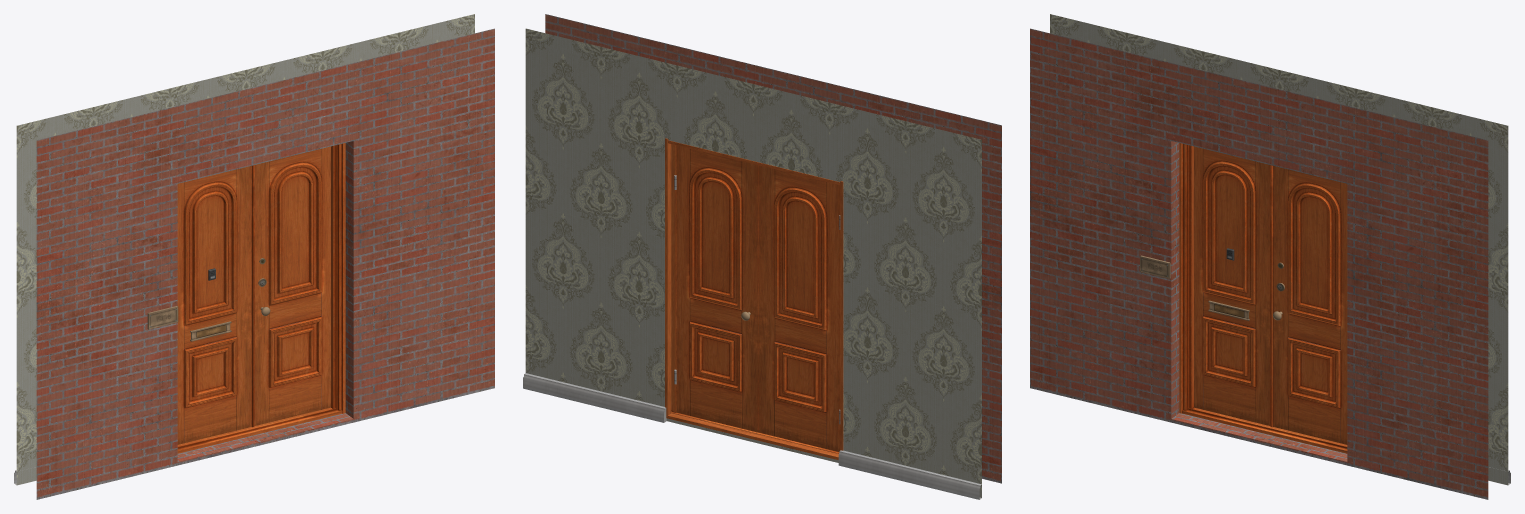
Rendered from House_03_Wall_Door.fbx.
The picture shows the model from 3 angles, left to right: view 1: azimuth 30°, elevation 25°; view 2: azimuth 150°, elevation 25°; view 3: azimuth 330°, elevation 25°; orthographic projection.
Parts seen in each view (by area): view 1: House_03_Wall_Door_LOD0, House_03_Door_01_LOD0; view 2: House_03_Wall_Door_LOD0, House_03_Door_01_LOD0; view 3: House_03_Wall_Door_LOD0, House_03_Door_01_LOD0.
Boxes of the visible parts, box(x1,y1,x2,y2) form: House_03_Wall_Door_LOD0: box(14, 14, 494, 499); House_03_Door_01_LOD0: box(255, 146, 330, 425); House_03_Wall_Door_LOD0: box(523, 14, 1001, 499); House_03_Door_01_LOD0: box(674, 145, 758, 432); House_03_Wall_Door_LOD0: box(1030, 14, 1510, 499); House_03_Door_01_LOD0: box(1273, 166, 1347, 444).
Size of what is drawn, in the model's own units: 400 by 300 by 35.62.
